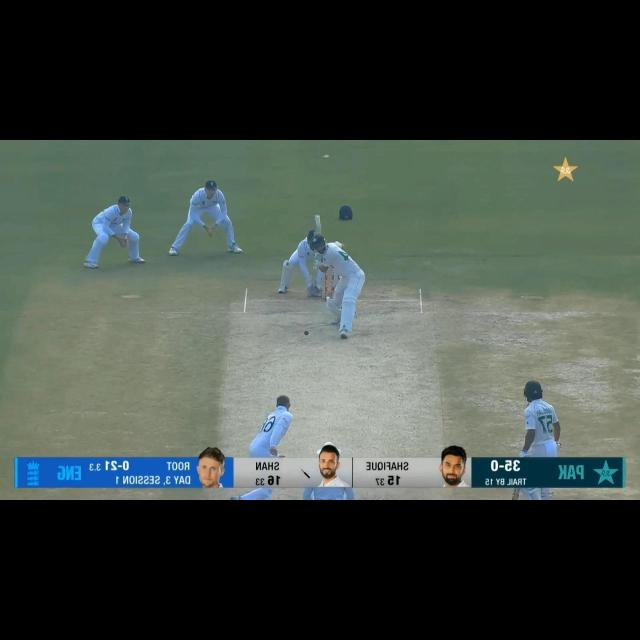bat: (315, 216, 322, 236), (508, 489, 521, 499)
